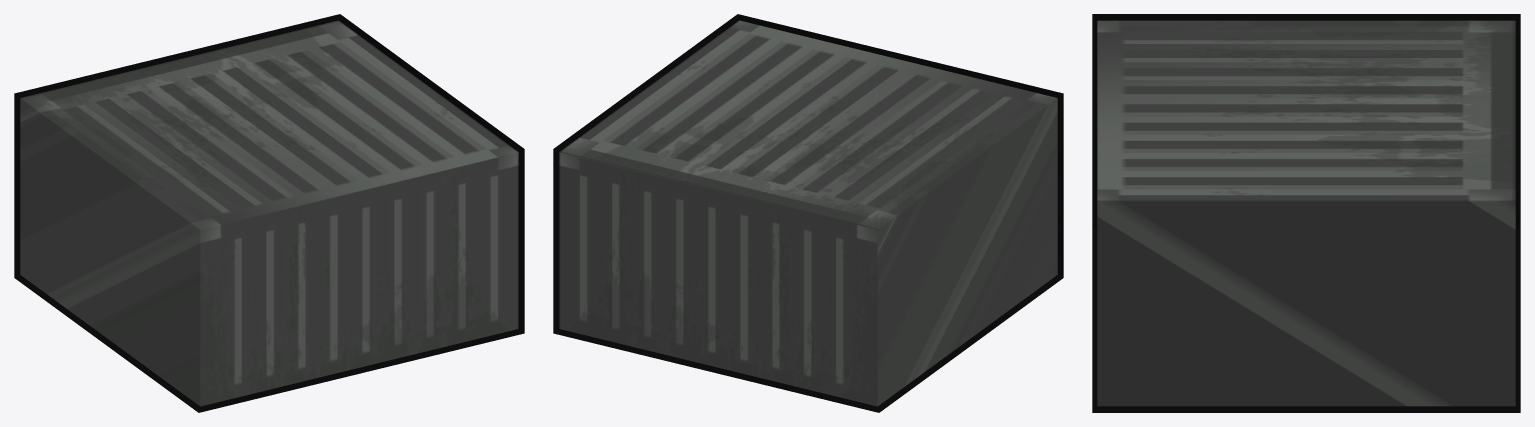
The model's file is Building_AncientSmallContainer_Things_Building_Ancient_Shipping_SmallAncientContainer_SmallAncientContainerB.glb.
3 renders of one model, left to right at view 1: azimuth 30°, elevation 25°; view 2: azimuth 150°, elevation 25°; view 3: azimuth 270°, elevation 25°, orthographic. The views are drawn at different scales.
Parts seen in each view (by area): view 1: Body, Outline; view 2: Body, Outline; view 3: Body, Outline.
Boxes of the visible parts, x1,y1,x2,y2 form: Body: (20,20,518,406); Outline: (14,14,524,412); Body: (559,20,1057,406); Outline: (553,14,1063,412); Body: (1097,20,1515,406); Outline: (1092,14,1520,412).
Bounding box in the file's own units: 1.97 × 1.06 × 1.93.
Materials: 2 (1 with a texture image).
